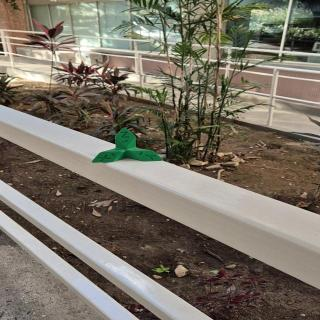eje: (90, 127, 164, 163)
